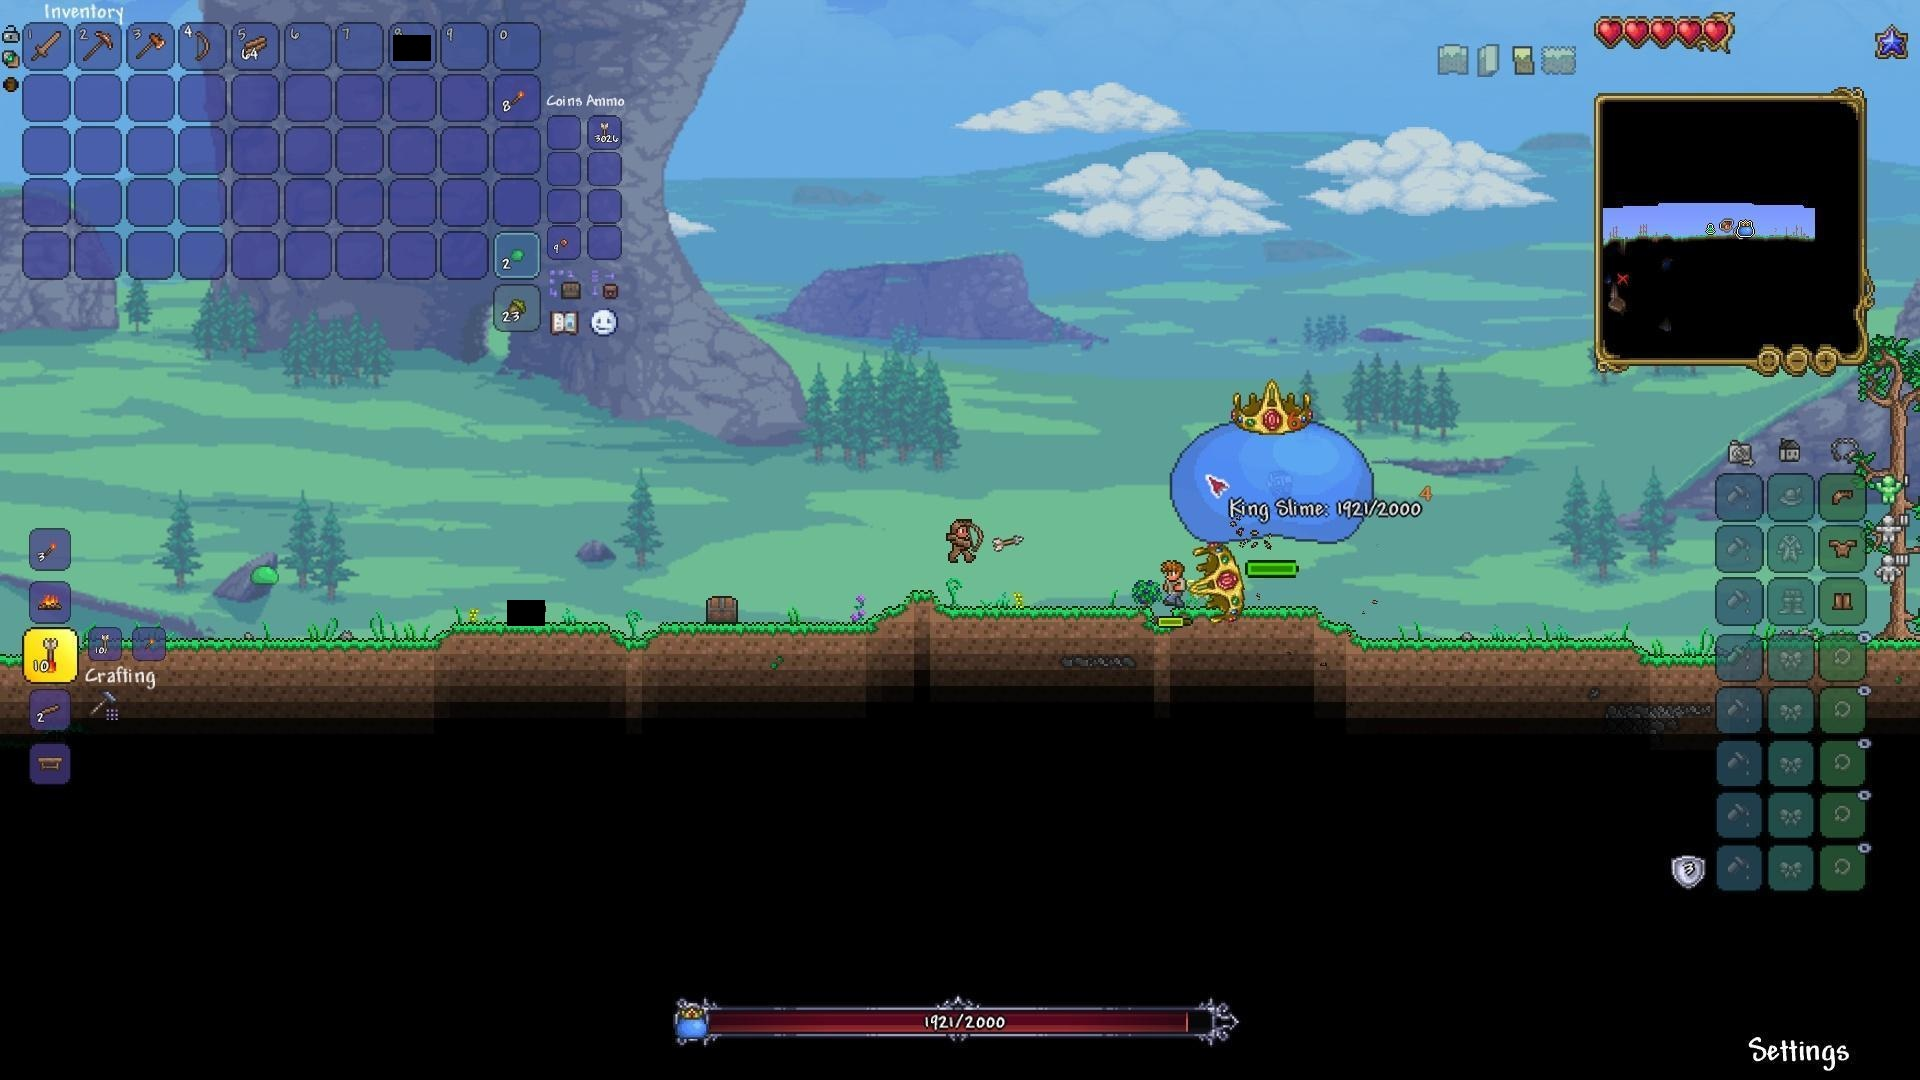breastplate: (1828, 537, 1858, 558)
helmet: (1826, 483, 1857, 509)
legs: (1830, 585, 1855, 616)
wood: (243, 34, 270, 61)
workbench: (32, 749, 69, 774)
